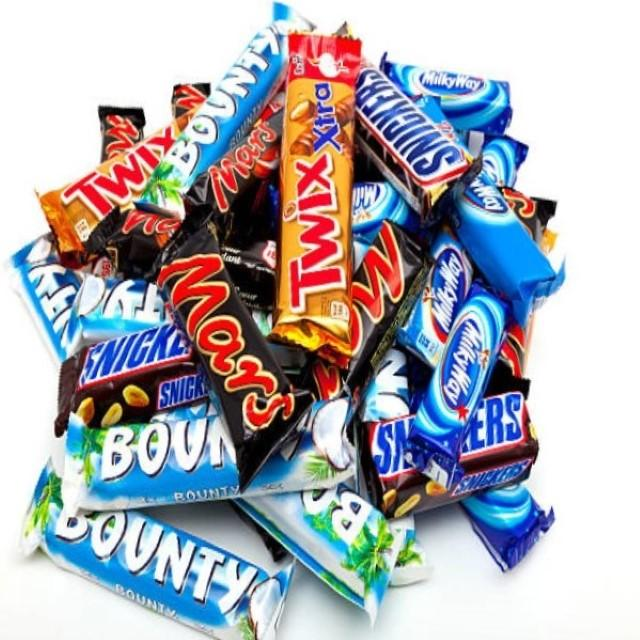mars_chocolate: (177, 248, 280, 425)
snickers_chocolate: (388, 382, 550, 488), (62, 322, 222, 412), (367, 66, 470, 196)
